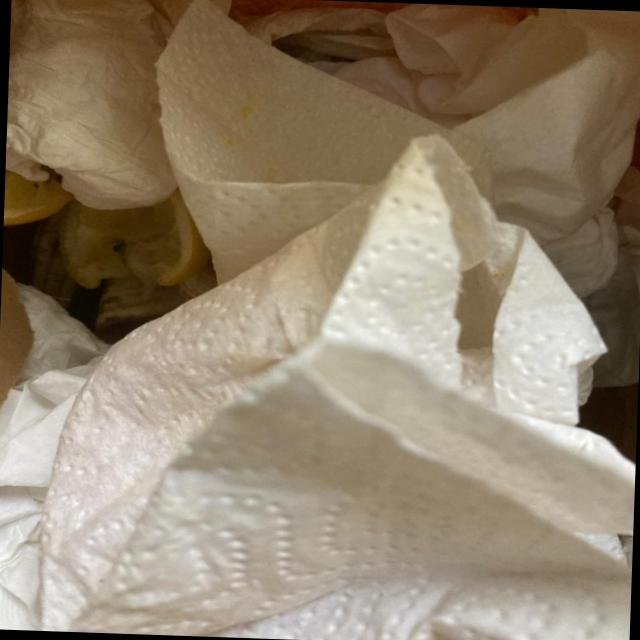organic waste: (35, 131, 640, 640), (138, 0, 640, 301), (0, 275, 117, 633)
